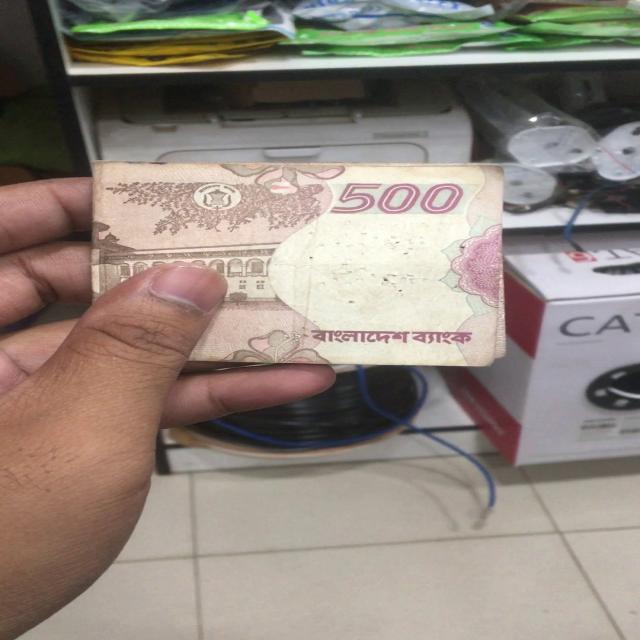Taka: (92, 158, 504, 364)
